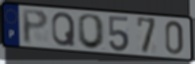0: (164, 20, 185, 58)
5: (108, 15, 131, 53)
7: (135, 16, 158, 56)
O: (77, 13, 107, 51)
P: (20, 8, 50, 46)
Q: (51, 11, 77, 48)
